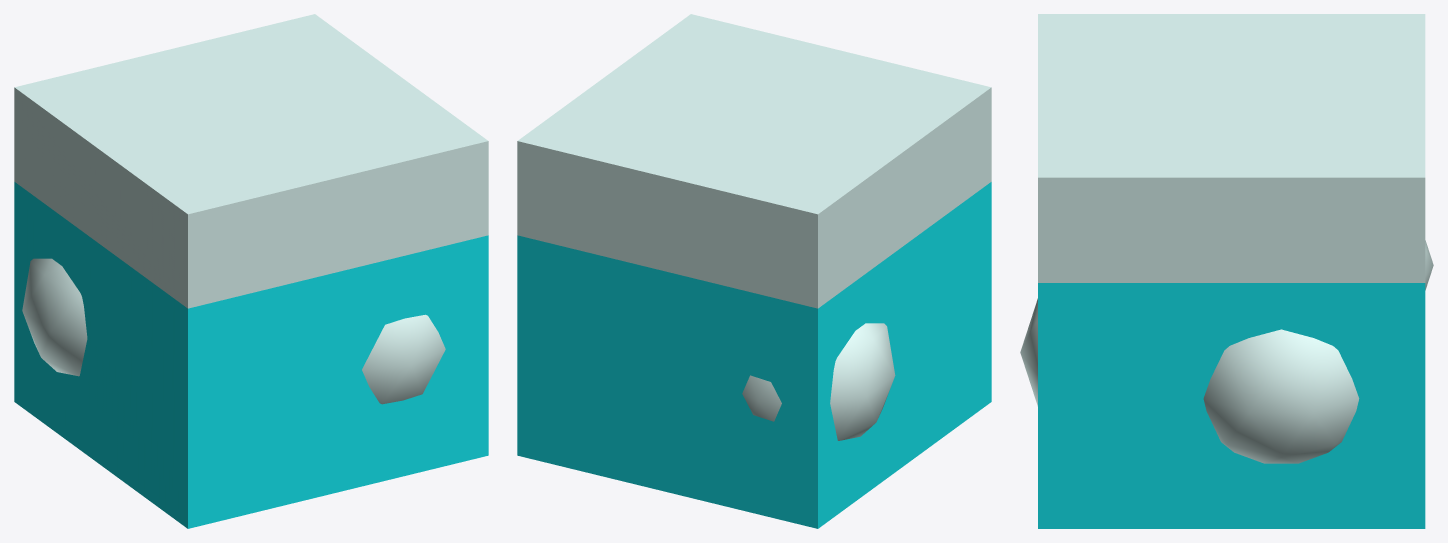
File: icecube.glb
3 views of the same model, side by side, from view 1: azimuth 30°, elevation 25°; view 2: azimuth 150°, elevation 25°; view 3: azimuth 270°, elevation 25° (orthographic). The views are drawn at different scales.
Parts seen in each view (by area): view 1: Ice_Cube; view 2: Ice_Cube; view 3: Ice_Cube.
Boxes of the visible parts, box(x1,y1,x2,y2) form: Ice_Cube: box(14, 14, 488, 528); Ice_Cube: box(517, 14, 991, 528); Ice_Cube: box(1020, 14, 1433, 528).
Size of the model in its own units: 2.31 by 2 by 2.13.
